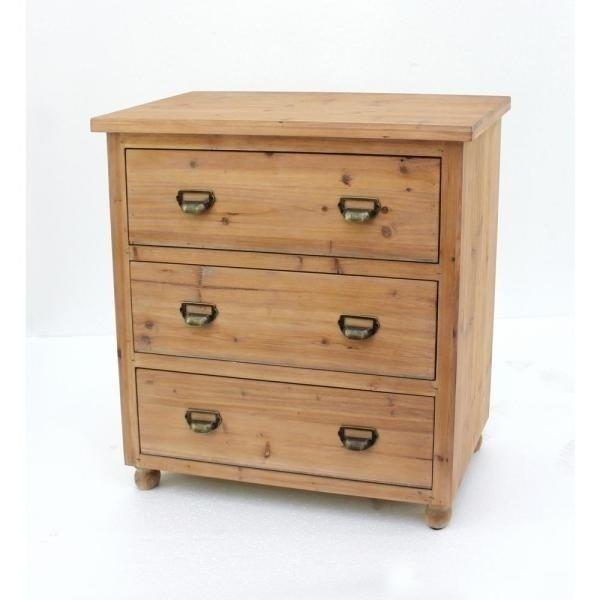cabinet_door: (129, 269, 438, 374), (125, 151, 441, 253), (132, 380, 436, 476)
handle: (333, 310, 382, 348), (336, 193, 386, 230), (334, 419, 381, 457), (174, 296, 223, 332), (181, 405, 223, 440), (175, 186, 218, 220)
